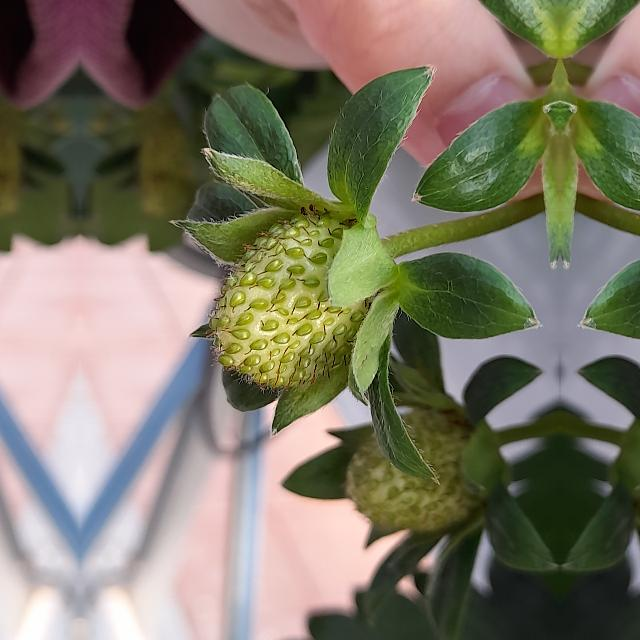Health_25: (205, 202, 398, 394)
